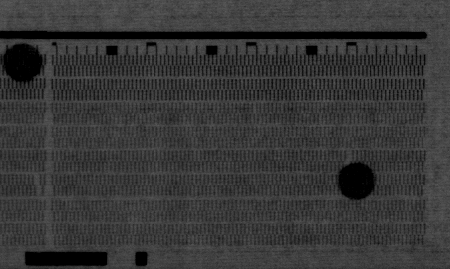Broken hole: (31, 173, 44, 196), (342, 150, 355, 169)
